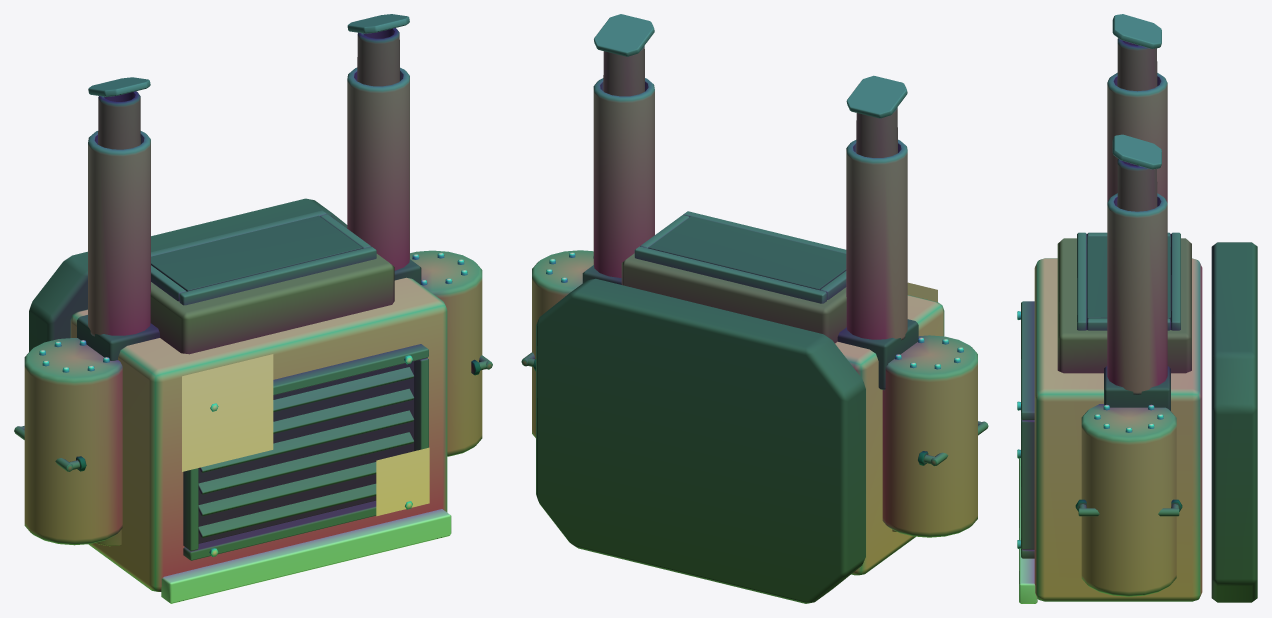
The model's file is gen_diesel.glb.
3 renders of one model, left to right at view 1: azimuth 30°, elevation 25°; view 2: azimuth 150°, elevation 25°; view 3: azimuth 270°, elevation 25°, orthographic. The views are drawn at different scales.
Parts seen in each view (by area): view 1: Body__gunmetal, Body__dark, Body__armor, Body__armor_sub, Body__armor_oxide, Body__decal, Body__hazard, Body__chrome; view 2: Body__dark, Body__gunmetal, Body__armor_sub, Body__armor_oxide, Body__armor; view 3: Body__gunmetal, Body__dark, Body__armor, Body__armor_sub, Body__armor_oxide, Body__hazard, Body__chrome.
Boxes of the visible parts, x1,y1,x2,y2 form: Body__gunmetal: (14, 14, 492, 560); Body__dark: (29, 28, 480, 543); Body__armor: (70, 277, 447, 591); Body__armor_sub: (24, 250, 482, 545); Body__armor_oxide: (150, 254, 394, 354); Body__decal: (182, 354, 429, 516); Body__hazard: (161, 509, 451, 603); Body__chrome: (39, 252, 467, 556); Body__dark: (533, 46, 928, 603); Body__gunmetal: (521, 14, 988, 466); Body__armor_sub: (532, 250, 977, 537); Body__armor_oxide: (621, 253, 846, 343); Body__armor: (835, 295, 944, 575); Body__gunmetal: (1021, 14, 1180, 558); Body__dark: (1075, 38, 1257, 602); Body__armor: (1034, 258, 1202, 601); Body__armor_sub: (1081, 404, 1176, 596); Body__armor_oxide: (1057, 238, 1191, 373); Body__hazard: (1019, 458, 1037, 603); Body__chrome: (1017, 311, 1163, 548).
Size of the model in its own units: 1.17 by 1.23 by 0.5735.
